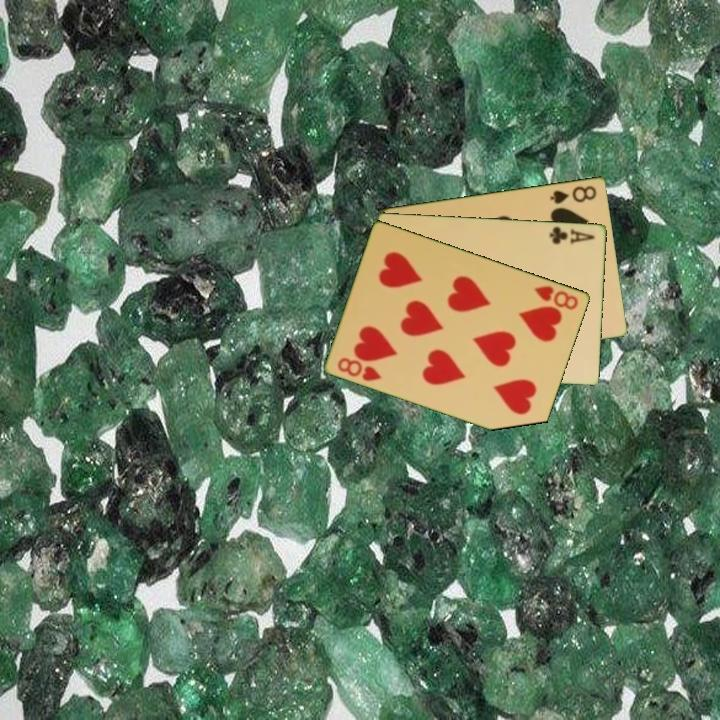8h: (531, 282, 581, 312), (334, 354, 384, 384)
8s: (547, 182, 600, 206)
Ac: (546, 222, 598, 247)
